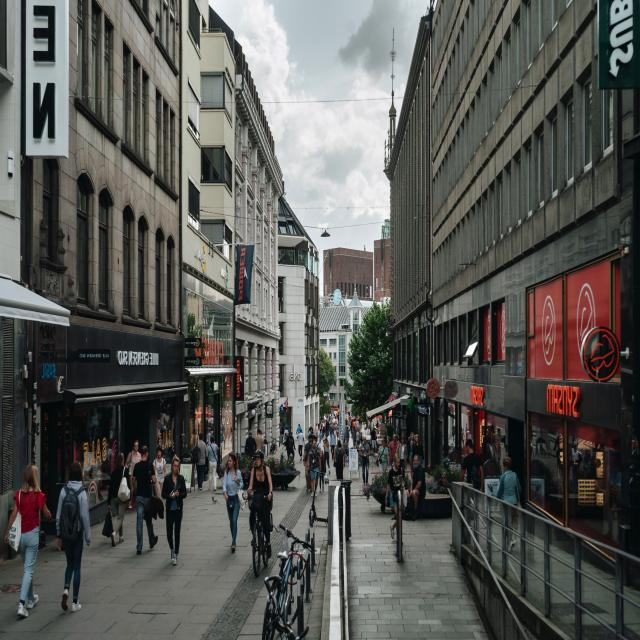adult: (5, 464, 50, 615), (56, 463, 88, 611), (245, 446, 272, 556), (132, 445, 158, 554), (496, 457, 522, 551), (164, 455, 185, 566), (107, 453, 130, 547), (222, 454, 243, 550), (386, 454, 404, 540), (408, 455, 426, 522), (126, 440, 142, 510), (307, 438, 322, 497), (461, 439, 479, 484), (152, 446, 166, 500), (194, 432, 207, 490), (207, 434, 219, 490), (408, 432, 422, 478), (303, 434, 314, 492), (395, 438, 408, 481), (360, 435, 370, 485), (375, 439, 389, 474), (334, 440, 346, 479), (318, 448, 326, 492), (285, 429, 296, 461), (389, 434, 398, 466), (244, 430, 257, 452)
